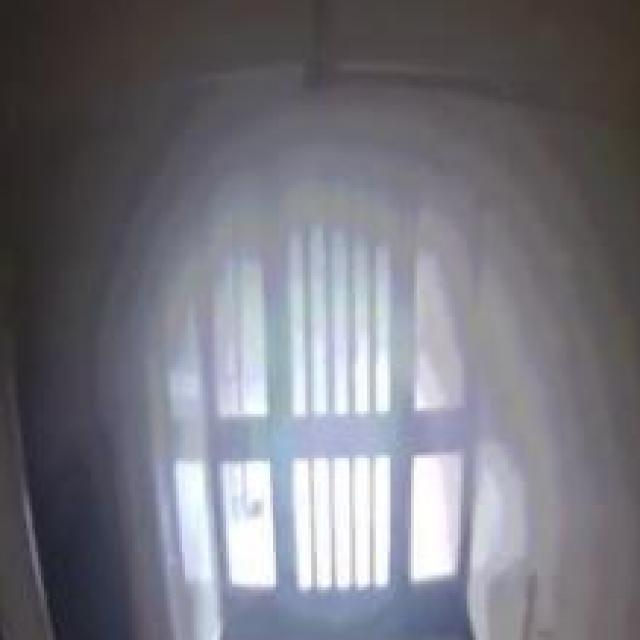fire: (214, 96, 493, 427)
